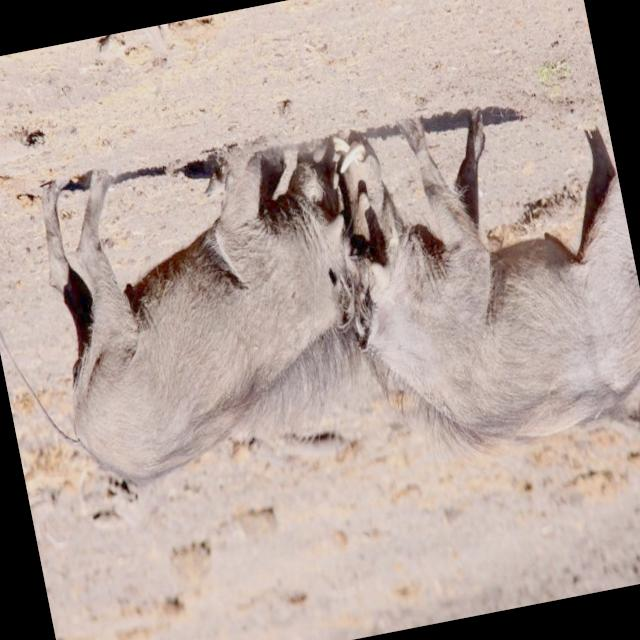pig: (0, 140, 354, 484), (341, 111, 640, 450), (335, 140, 349, 153)
